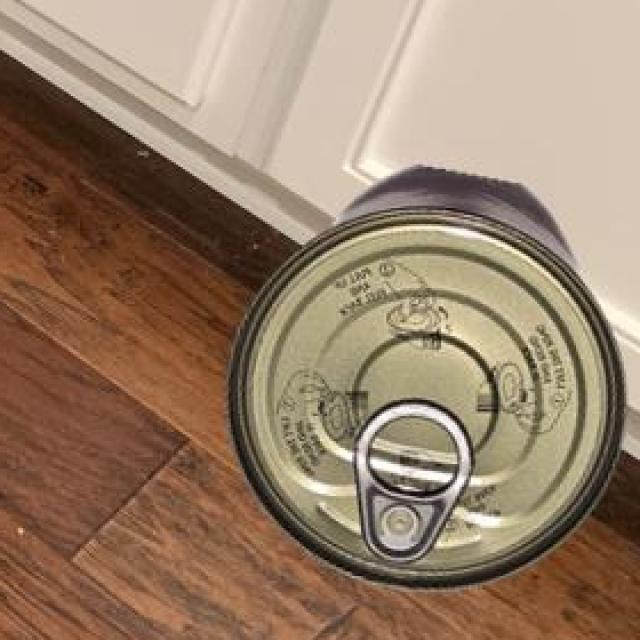logam: (230, 161, 630, 586)
